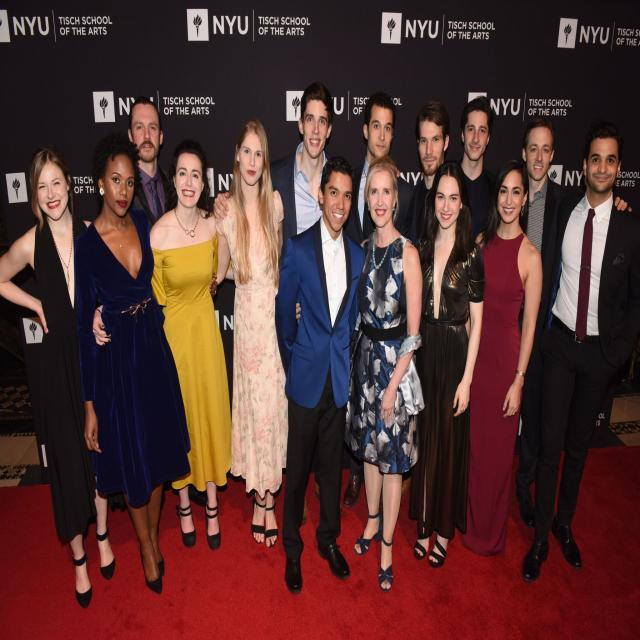body: (70, 136, 222, 596), (211, 76, 363, 532), (0, 142, 133, 615), (91, 140, 238, 551), (294, 154, 426, 594), (519, 122, 640, 585), (514, 116, 634, 530), (270, 154, 370, 602), (212, 117, 290, 550), (464, 157, 546, 562), (406, 159, 484, 571), (341, 91, 416, 511), (403, 99, 474, 252), (124, 96, 178, 229), (457, 95, 501, 249)
